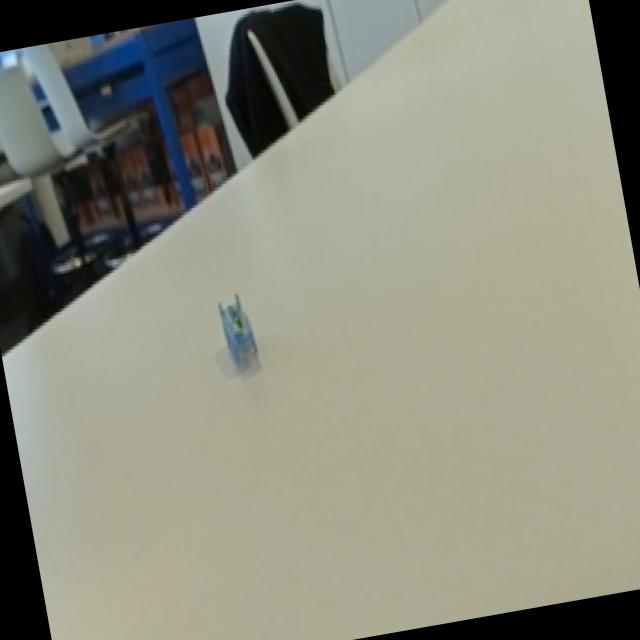3_NanoBug_Celeste: (182, 272, 294, 398)
